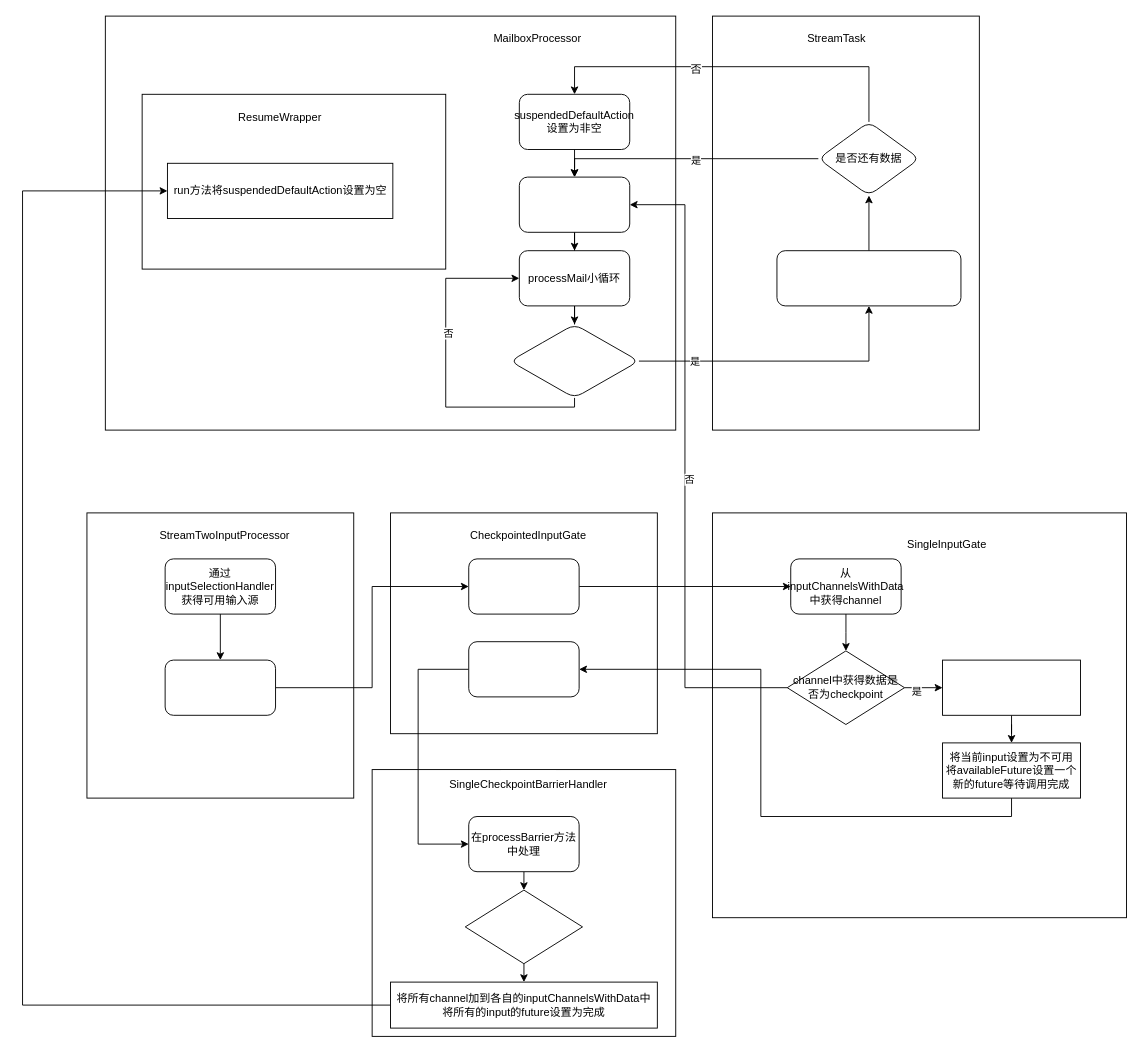
The diagram is 1143 pixels wide and 1052 high, and some of its shapes have lost their labels. The box of each missing label's shape, as (x1, y1, x2, y2) in pixels:
pollNext处理数据: (468, 558, 579, 614)
processInput处理数据: (776, 250, 961, 306)
runMailboxLoop大循环: (518, 176, 630, 232)
suspendedDefaultAction是否为空: (509, 323, 639, 398)
在handleEvent方法中处理checkpointbarrier: (468, 641, 579, 697)
将此channel从inputChannelsWithData删除: (942, 659, 1081, 715)
是否到齐: (464, 889, 583, 964)
调用pollNext 处理数据: (164, 659, 276, 715)
